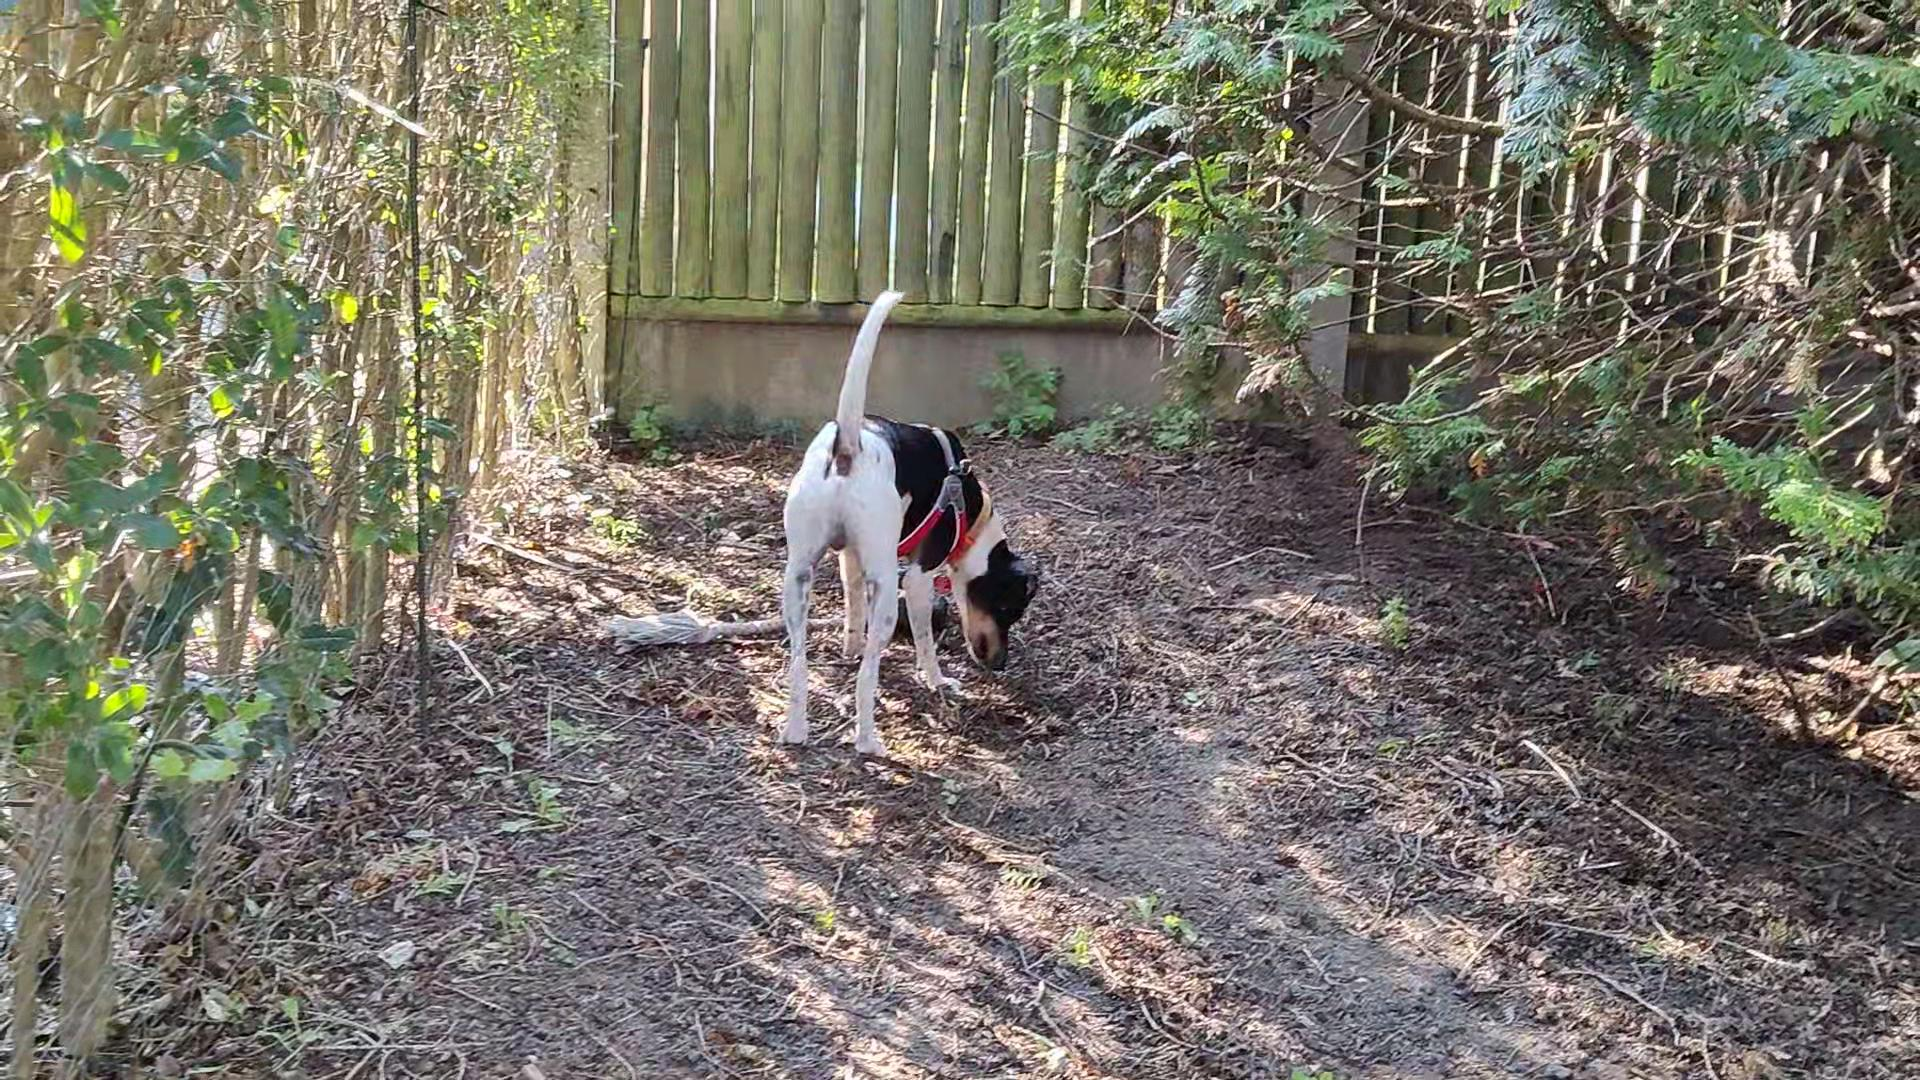Dog: (764, 273, 1062, 774)
